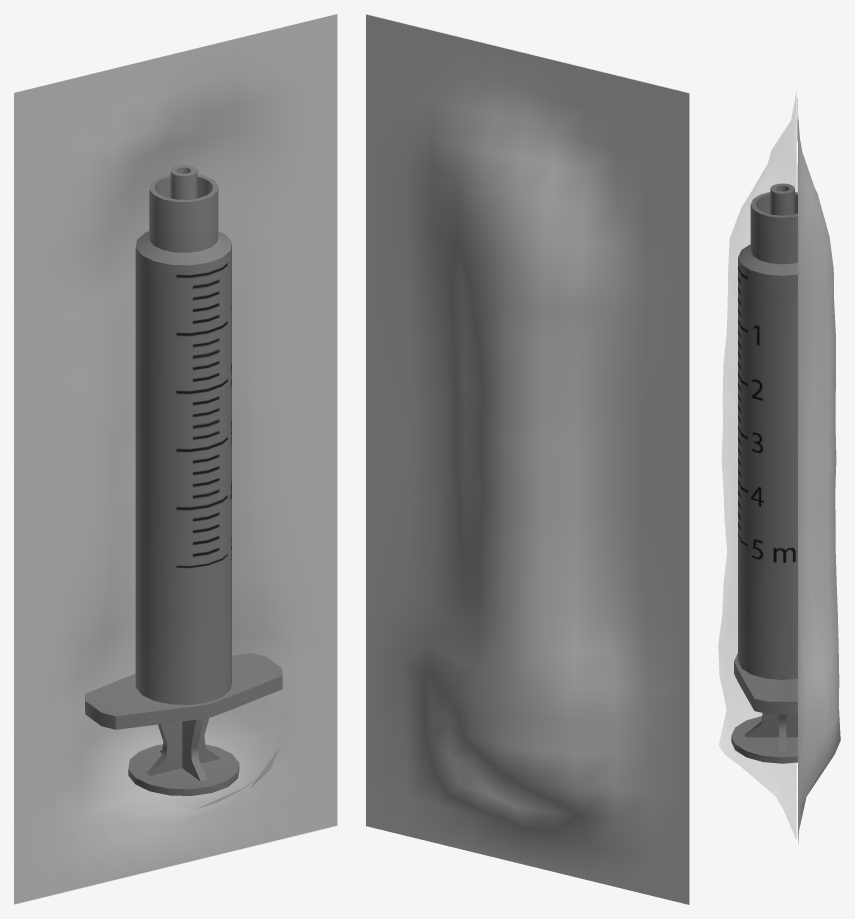
Rendered from syringe_5ml.fbx.
3 renders of one model, left to right at view 1: azimuth 30°, elevation 25°; view 2: azimuth 150°, elevation 25°; view 3: azimuth 270°, elevation 25°, orthographic. The views are drawn at different scales.
Parts seen in each view (by area): view 1: syringe_5ml_cover_back, syringe_5ml_out, syringe_5ml_in; view 2: syringe_5ml_cover_back; view 3: syringe_5ml_out, syringe_5ml_cover_back, syringe_5ml_cover_front, syringe_5ml_in.
Boxes of the visible parts, <box> form: syringe_5ml_cover_back: <box>14,14,337,904</box>; syringe_5ml_out: <box>85,165,282,729</box>; syringe_5ml_in: <box>128,718,239,795</box>; syringe_5ml_cover_back: <box>366,14,689,904</box>; syringe_5ml_out: <box>734,183,797,714</box>; syringe_5ml_cover_back: <box>797,98,840,843</box>; syringe_5ml_cover_front: <box>718,92,796,839</box>; syringe_5ml_in: <box>731,713,797,763</box>.
Size of the model in its own units: 5 by 12 by 1.78.
